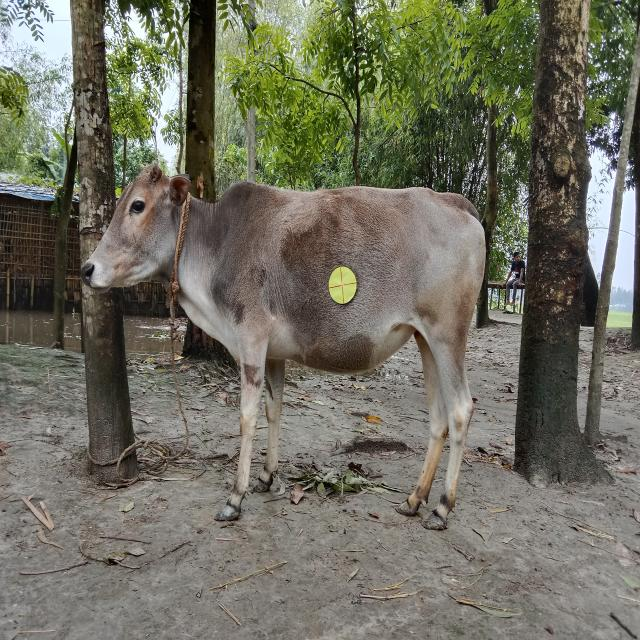badan_sapi: (220, 182, 484, 376)
sapi: (72, 142, 493, 550)
